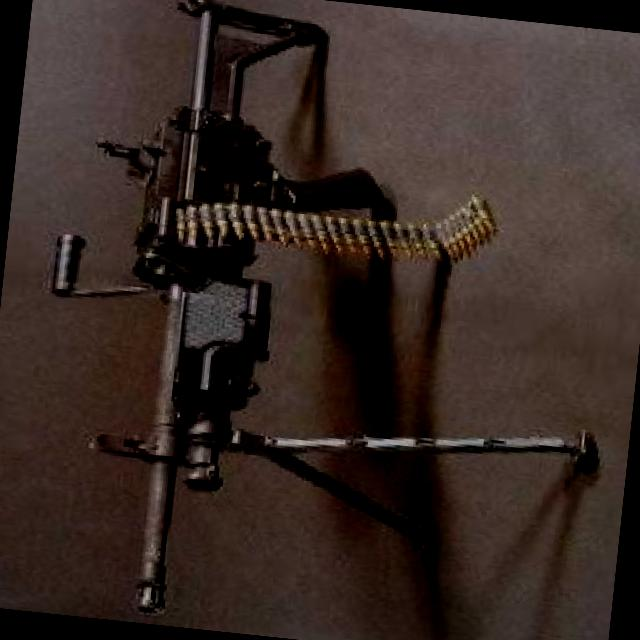long weapon: (25, 0, 631, 639)
